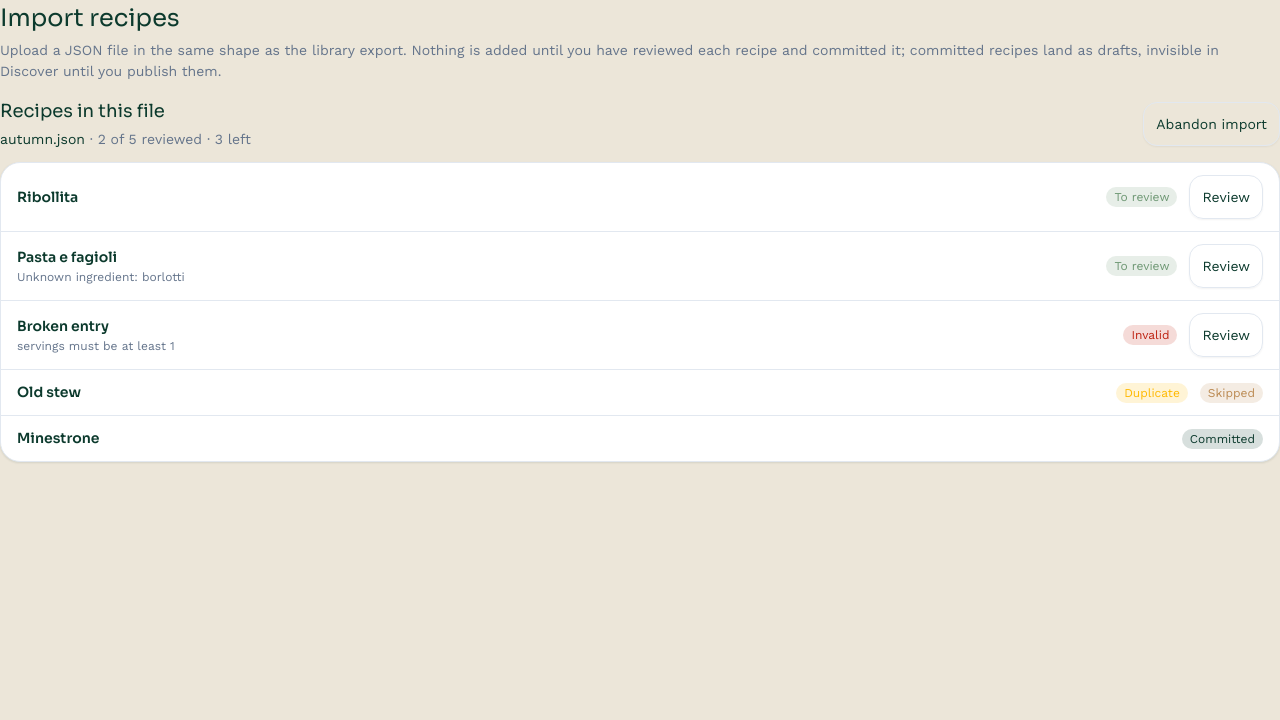
abandoning asks first, and cancelling leaves the batch alone
Expected: the text "Ribollita" is shown, [17,188,78,206]
Click the button "Abandon import" at (1212, 124), box [1143,102,1279,146]
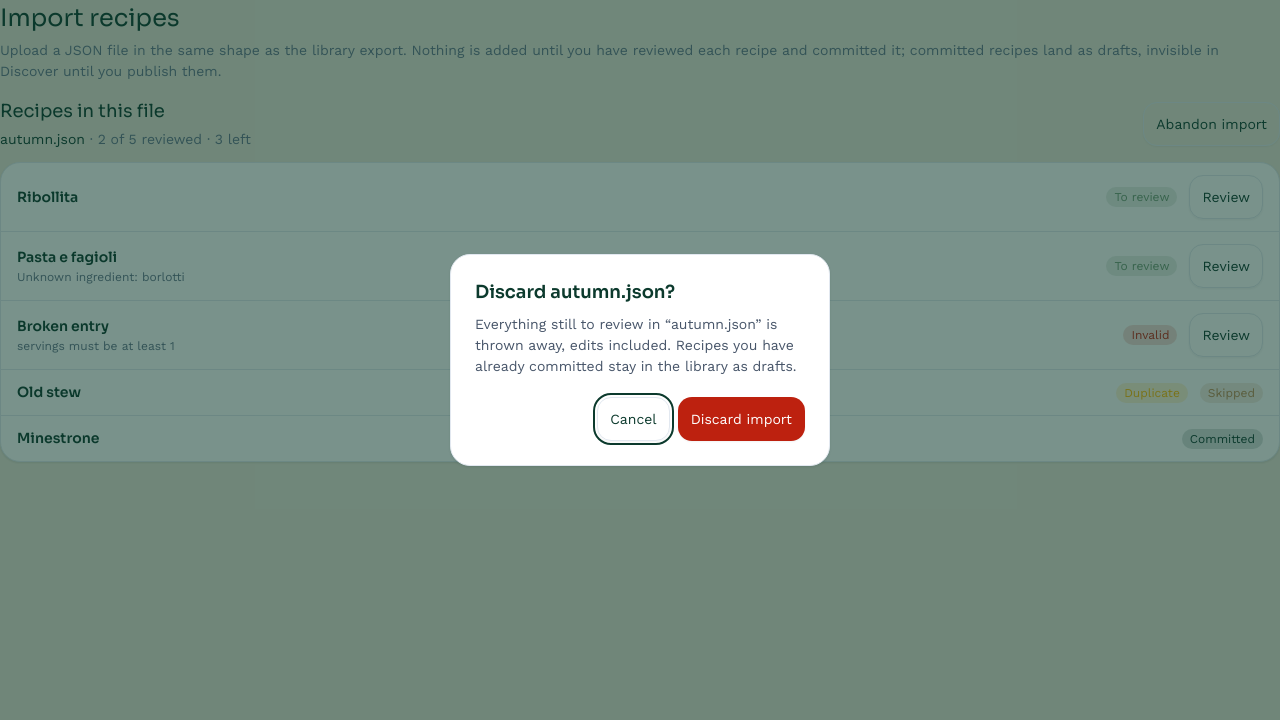
Click the button "Cancel" at (634, 419), box [597,397,670,441]
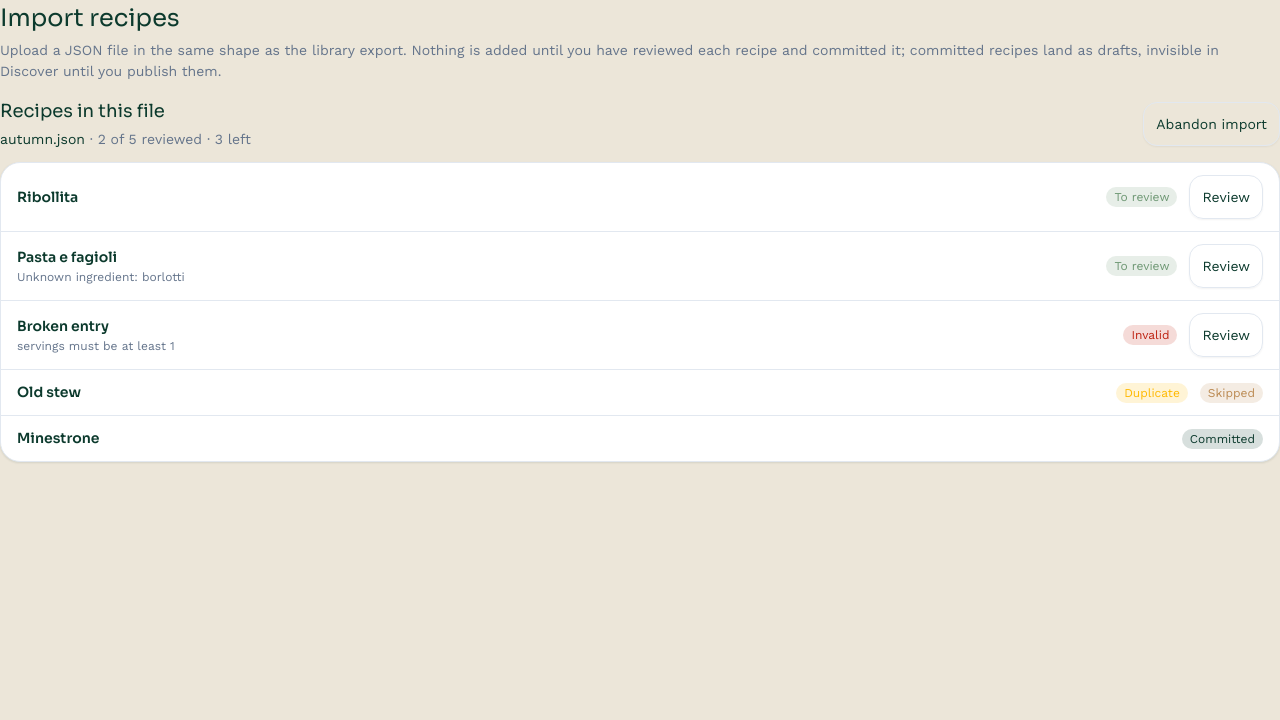
Expected: the text "Ribollita" is shown, [17,188,78,206]
Now the dialog is gone
